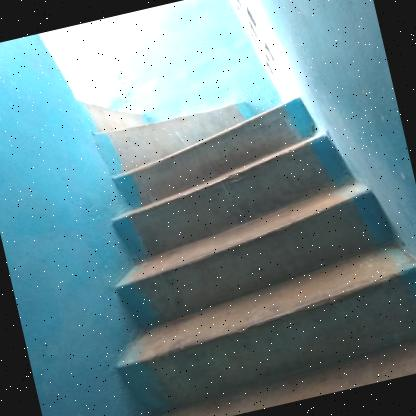stair: (44, 43, 416, 416)
